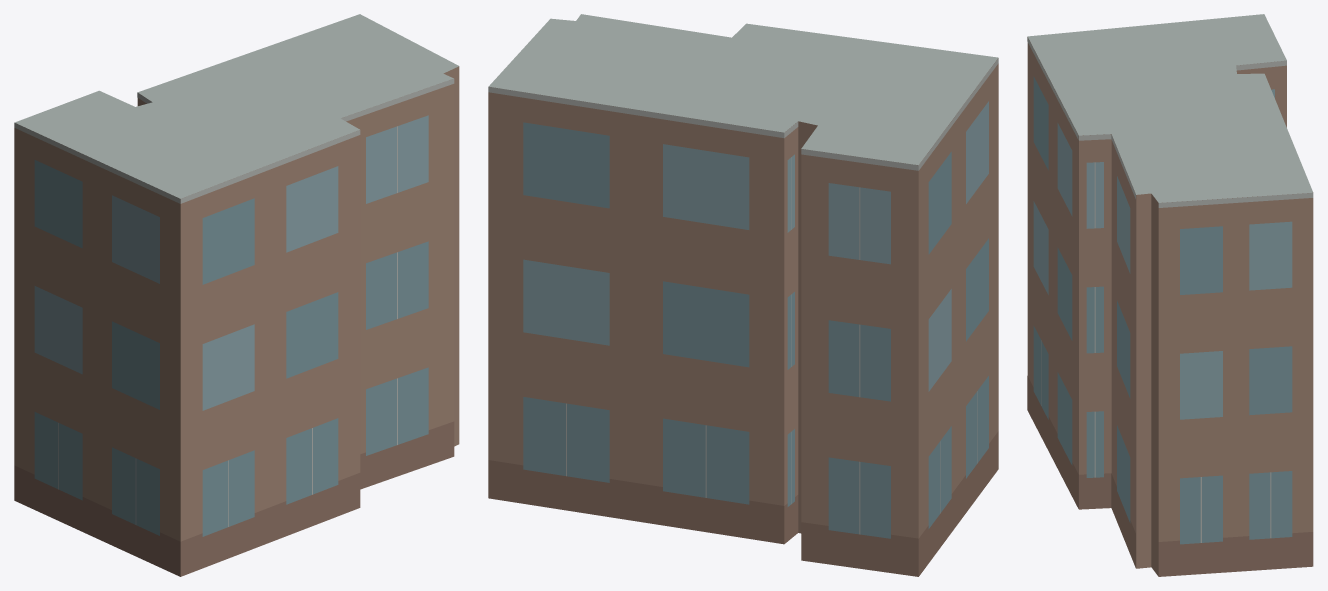
File: survey-upis-32472355.glb
3 views of the same model, side by side, from view 1: azimuth 30°, elevation 25°; view 2: azimuth 150°, elevation 25°; view 3: azimuth 270°, elevation 25° (orthographic). The views are drawn at different scales.
Visible parts, largest first — view 1: survey-upis-32472355.tmp; view 2: survey-upis-32472355.tmp; view 3: survey-upis-32472355.tmp.
Part boxes in pixels (x1,y1,x2,y2): survey-upis-32472355.tmp: (14,14,459,576); survey-upis-32472355.tmp: (488,14,998,576); survey-upis-32472355.tmp: (1027,14,1313,576).
Size of the model in its own units: 19.37 by 17.86 by 12.39.
